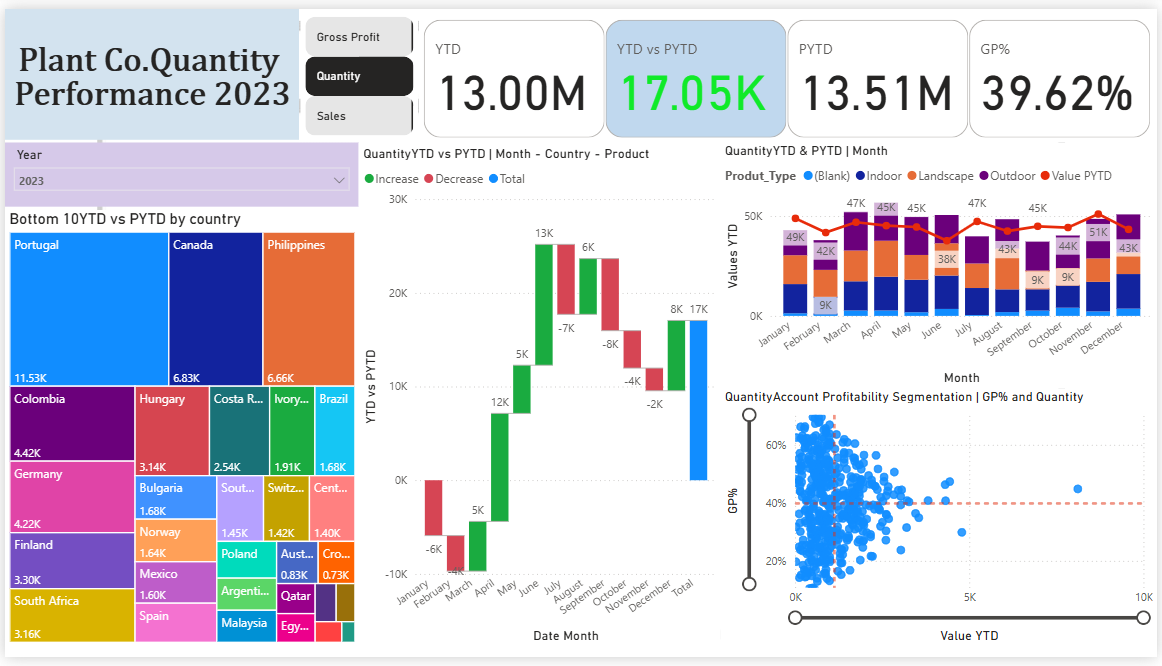

Layout of this report page (visuals, bound fields, positions):
{"tool":"powerbi","page":{"name":"Page 1","canvas":[1280,720],"ordinal":0},"visuals":[{"type":"cardVisual","fields":{"Data":["_Measures.YTD_Sales","_Measures.YTD vs PYTD","_Measures.PYTD_Sales","_Measures.GP%"]},"box":[459.7,6.4,820.8,141.6],"z":0},{"type":"advancedSlicerVisual","fields":{"Values":["Slc_Values.Values"]},"box":[327.7,3.2,130.4,144.7],"z":1000},{"type":"slicer","fields":{"Values":["Dim_Date.Date.Variation.Date Hierarchy.Year"]},"box":[0,147.9,392.9,71.6],"z":2000},{"type":"treemap","fields":{"Group":["Dim_Account.country2"],"Values":["_Measures.YTD vs PYTD"]},"box":[0,223.3,393.3,485],"z":3000},{"type":"waterfallChart","fields":{"Category":["Dim_Date.Date.Variation.Date Hierarchy.Month","Dim_product.Produt_Type","Dim_product.Product_Name_id"],"Y":["_Measures.YTD vs PYTD"]},"box":[393.3,151.7,401.7,556.7],"z":4000},{"type":"lineStackedColumnComboChart","fields":{"Y":["_Measures.S_YTD"],"Category":["Dim_Date.Date.Variation.Date Hierarchy.Month"],"Y2":["_Measures.S_PYTD"],"Series":["Dim_product.Produt_Type"]},"box":[795,148.3,485,273.3],"z":5000},{"type":"scatterChart","fields":{"Y":["_Measures.GP%"],"X":["_Measures.S_YTD"],"Category":["Dim_Account.Account"]},"box":[795,421.7,485,286.7],"z":5001},{"type":"card","fields":{"Values":["_Measures.Report Title"]},"box":[0,0,326.7,145],"z":5002}]}

Visuals, with their boxes in screenshot pixels (x1, y1, x2, y2), scaled from the page's 1280x720 canvas onto the 1162x666 screenshot:
cardVisual - _Measures.YTD_Sales x _Measures.YTD vs PYTD: bbox(417, 6, 1161, 137)
advancedSlicerVisual - Slc_Values.Values: bbox(297, 3, 416, 137)
slicer - Dim_Date.Date.Variation.Date Hierarchy.Year: bbox(0, 137, 357, 203)
treemap - Dim_Account.country2 x _Measures.YTD vs PYTD: bbox(0, 207, 357, 655)
waterfallChart - Dim_Date.Date.Variation.Date Hierarchy.Month x Dim_product.Produt_Type: bbox(357, 140, 722, 655)
lineStackedColumnComboChart - _Measures.S_YTD x Dim_Date.Date.Variation.Date Hierarchy.Month: bbox(722, 137, 1161, 390)
scatterChart - _Measures.GP% x _Measures.S_YTD: bbox(722, 390, 1161, 655)
card - _Measures.Report Title: bbox(0, 0, 297, 134)
